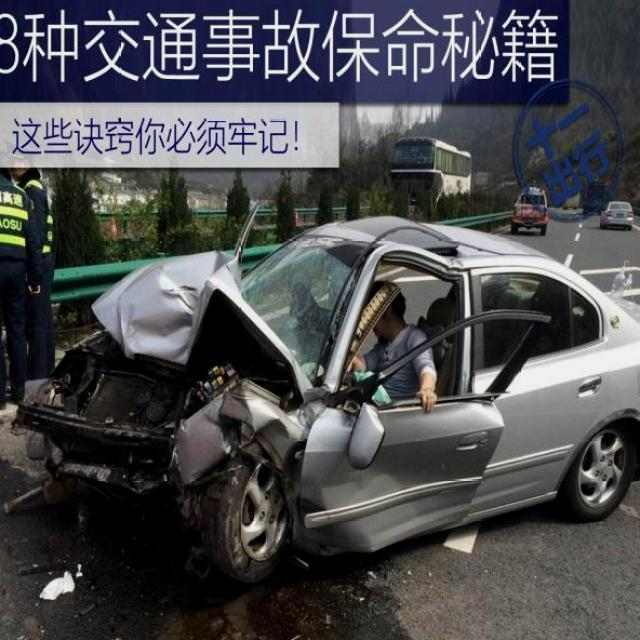accident: (4, 176, 640, 609)
